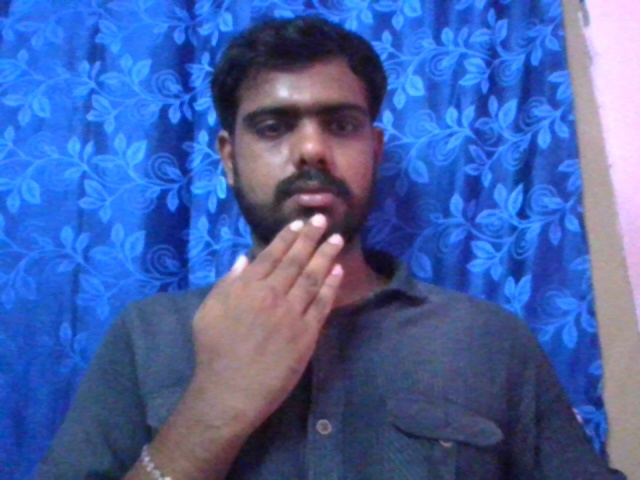Thanks: (184, 209, 345, 431)
